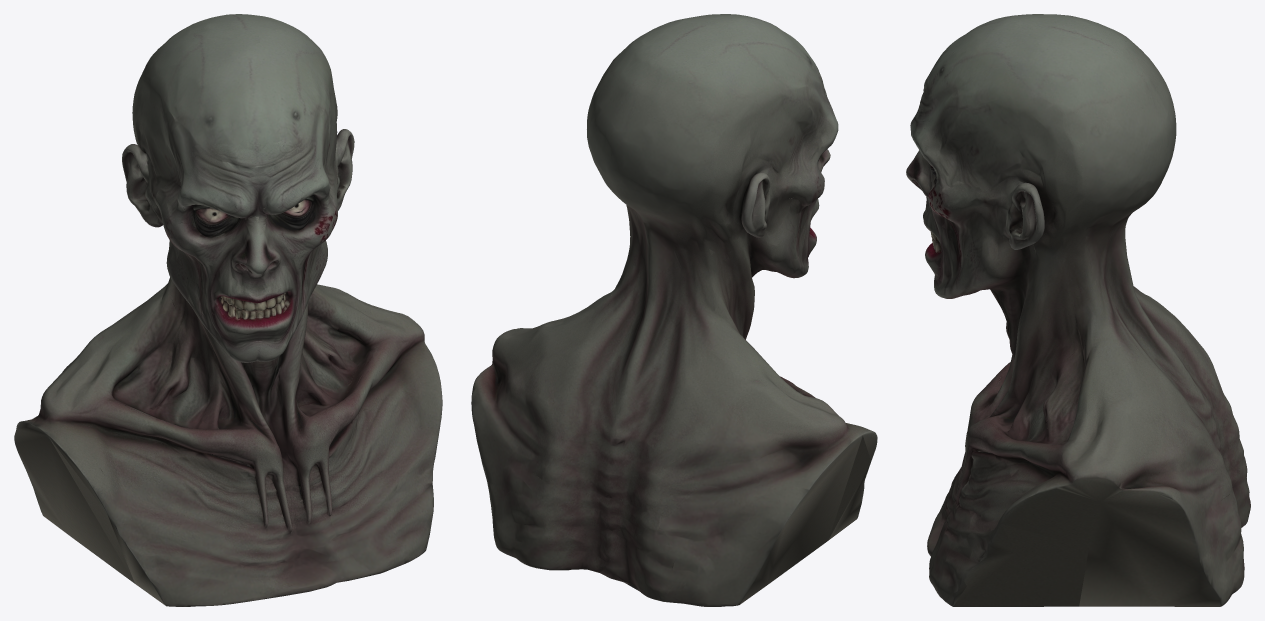
Rendered from busto-zumbi__01a163ba.glb.
3 views of the same model, side by side, from view 1: azimuth 30°, elevation 25°; view 2: azimuth 150°, elevation 25°; view 3: azimuth 270°, elevation 25° (orthographic). The views are drawn at different scales.
Parts seen in each view (by area): view 1: busto-zumbi__01a163ba; view 2: busto-zumbi__01a163ba; view 3: busto-zumbi__01a163ba.
Boxes of the visible parts, x1,y1,x2,y2 form: busto-zumbi__01a163ba: (14,14,442,606); busto-zumbi__01a163ba: (471,14,877,606); busto-zumbi__01a163ba: (906,14,1250,606).
Bounding box in the file's own units: 0.3777 × 0.5 × 0.3023.
1 material, 1 textured.
